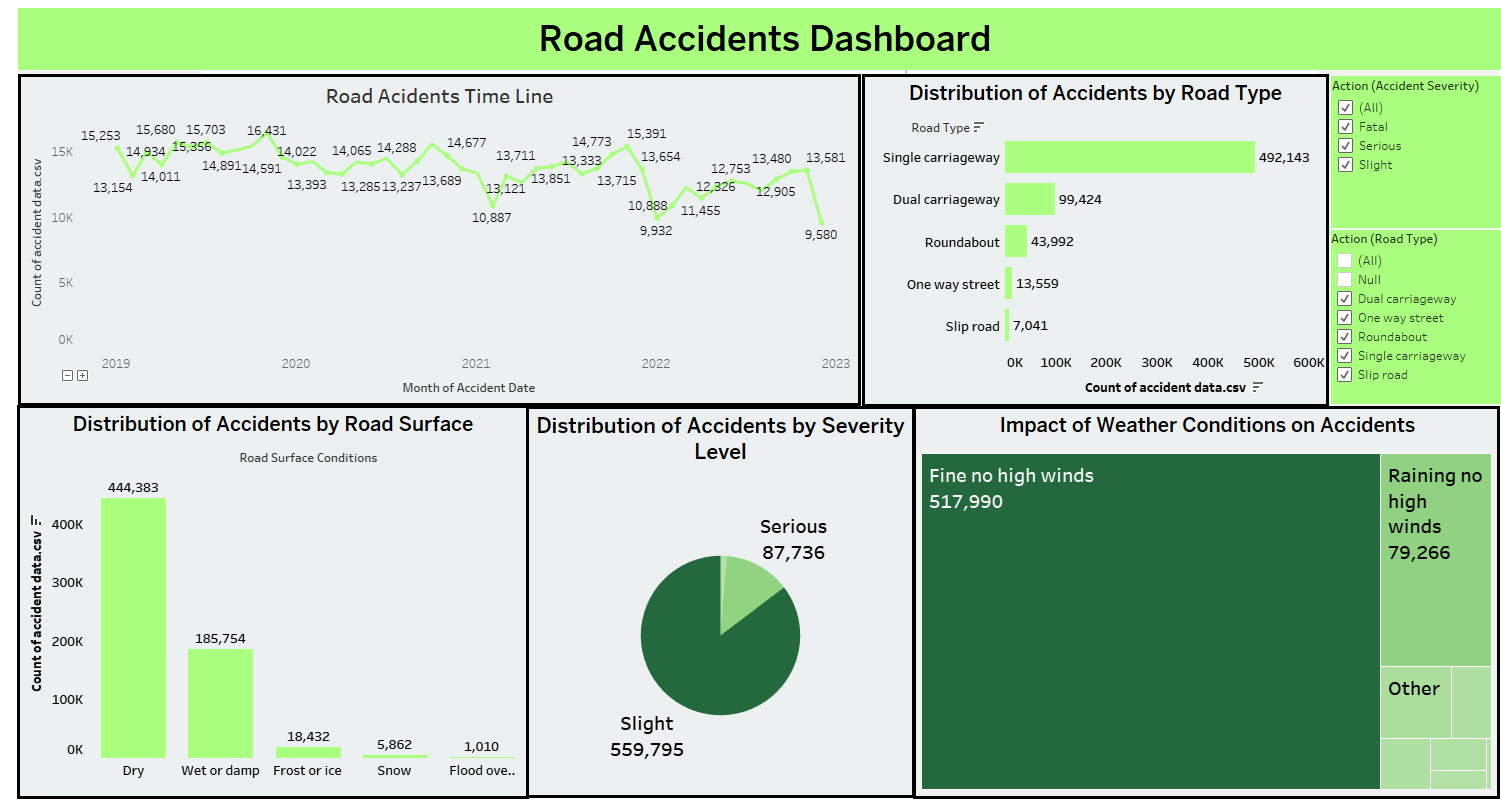

The dashboard page shown, as its layout file describes it:
{"tool":"tableau","page":{"name":"Dashboard","canvas":[1504,800],"ordinal":0},"visuals":[{"type":"text","box":[11,5,1494,62]},{"type":"image","param":"C:/Users/OAMR1/Downloads/png (1).png","box":[8,8,1488,784]},{"type":"worksheet","title":"Time LIne","mark":"Automatic","rows":["accident data.csv_3DE18E0BE2D648C6A1F7D9BF3B9C9D20"],"cols":["Accident Date"],"box":[11,71,843,332]},{"type":"worksheet","title":"Road Type","mark":"Automatic","rows":["Road_Type"],"cols":["accident data.csv_3DE18E0BE2D648C6A1F7D9BF3B9C9D20"],"box":[855,71,467,333]},{"type":"filter","title":"Time LIne","param":"[federated.0vhjdwi11s8cyl1f3jxhl03s8wb2].[Action (Accident Severity)]","box":[1324,73,170,152]},{"type":"filter","title":"Time LIne","param":"[federated.0vhjdwi11s8cyl1f3jxhl03s8wb2].[Action (Road Type)]","box":[1324,227,171,174]},{"type":"worksheet","title":"Road Surface","mark":"Automatic","rows":["accident data.csv_3DE18E0BE2D648C6A1F7D9BF3B9C9D20"],"cols":["Road_Surface_Conditions"],"box":[10,402,512,394]},{"type":"worksheet","title":"Severity level","mark":"Pie","box":[519,403,389,392]},{"type":"worksheet","title":"Weather Conditions","mark":"Automatic","box":[906,403,587,393]}]}

Visuals, with their boxes in screenshot pixels (x1, y1, x2, y2), scaled from the page's 1504x800 canvas onto the 1501x800 screenshot:
text: 11, 5, 1500, 67
image: 8, 8, 1493, 792
"Time LIne" worksheet: 11, 71, 852, 403
"Road Type" worksheet: 853, 71, 1319, 404
"Time LIne" filter: 1321, 73, 1491, 225
"Time LIne" filter: 1321, 227, 1492, 401
"Road Surface" worksheet: 10, 402, 521, 796
"Severity level" worksheet (Pie marks): 518, 403, 906, 795
"Weather Conditions" worksheet: 904, 403, 1490, 796
